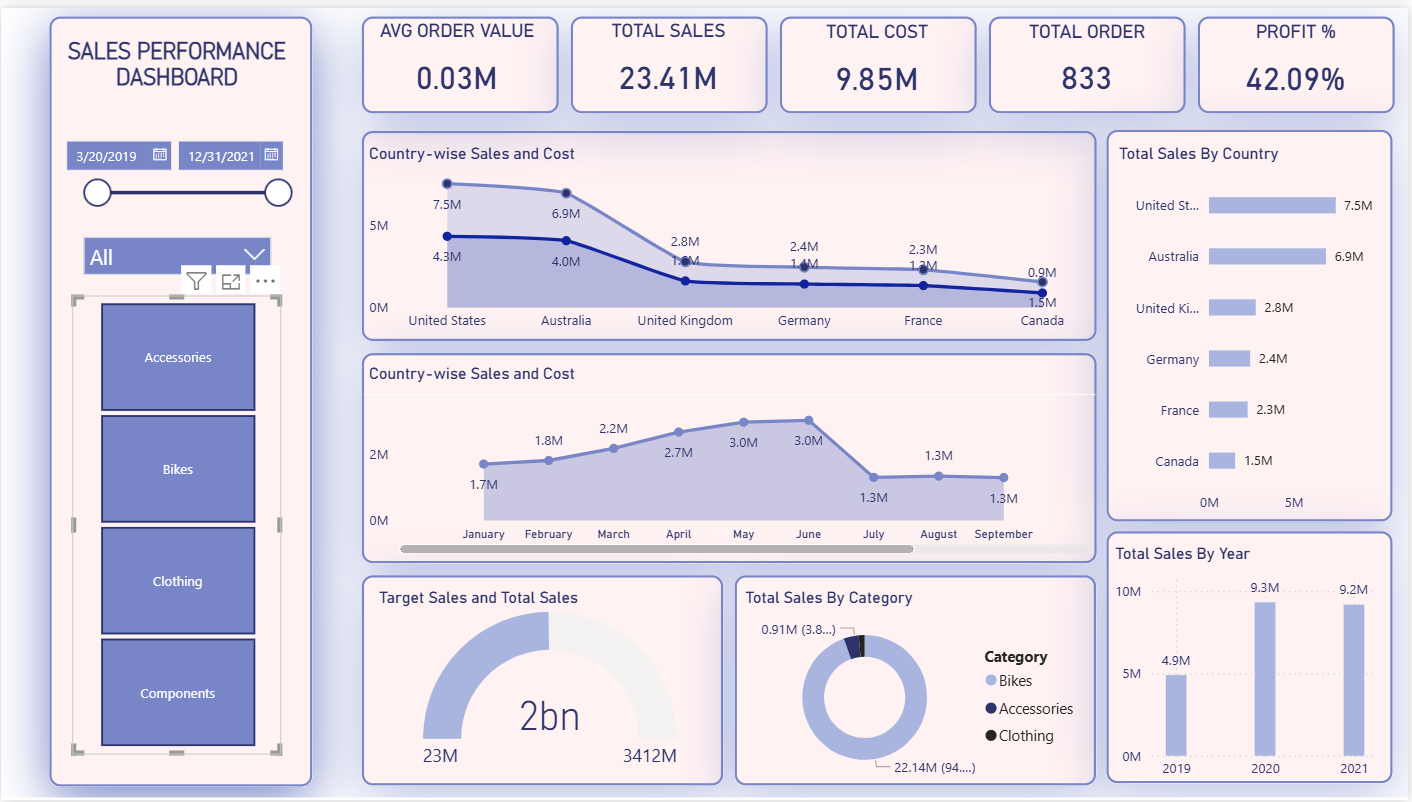

The dashboard page shown, as its layout file describes it:
{"tool":"powerbi","page":{"name":"Page 1","canvas":[1280,720],"ordinal":0},"visuals":[{"type":"areaChart","title":"Country-wise Sales and Cost","fields":{"Category":["Calendar.Date.Variation.Date Hierarchy.Month"],"Y":["Sales_19-21.msr_Total_Sales"]},"box":[330,324.3,665.7,177.1],"z":0},{"type":"clusteredColumnChart","title":"Total Sales By Year","fields":{"Category":["Calendar.Date.Variation.Date Hierarchy.Year","Calendar.Date.Variation.Date Hierarchy.Quarter","Calendar.Date.Variation.Date Hierarchy.Month","Calendar.Date.Variation.Date Hierarchy.Day"],"Y":["Sum(Sales_19-21.ProductTotalSales)"]},"box":[1007.5,487.5,248.8,222.5],"z":1000},{"type":"donutChart","title":"Total Sales By Category","fields":{"Category":["Product_Categories.CategoryName"],"Y":["Sales_19-21.msr_Total_Sales"]},"box":[671.2,527.5,317.5,182.5],"z":2000},{"type":"gauge","title":"Target Sales and Total Sales","fields":{"Y":["Sales_19-21.msr_Target_Sales"],"MinValue":["Sales_19-21.msr_Total_Sales"]},"box":[338.8,527.5,321.2,173.8],"z":3000},{"type":"card","title":"TOTAL SALES","fields":{"Values":["Sales_19-21.msr_Total_Sales"]},"box":[521.7,10,170,83.3],"z":4000},{"type":"card","title":"TOTAL COST","fields":{"Values":["Sales_19-21.msr_Profit"]},"box":[711,11,170,83],"z":5000},{"type":"card","title":"PROFIT %","fields":{"Values":["Sales_19-21.msr_Persent %"]},"box":[1092,11,170,83],"z":6000},{"type":"card","title":"TOTAL ORDER","fields":{"Values":["Sales_19-21.msr_Total_Order"]},"box":[902.2,11.1,170,82.2],"z":7000},{"type":"areaChart","title":"Country-wise Sales and Cost","fields":{"Category":["Territories.Country"],"Y":["Sales_19-21.msr_Total_Sales","Sales_19-21.msr_Total_Cost"]},"box":[330,124.3,665.7,178.6],"z":8000},{"type":"barChart","title":" Total Sales By Country","fields":{"Category":["Territories.Country"],"Y":["Sales_19-21.msr_Total_Sales"]},"box":[1011.4,124.3,250,344.3],"z":9000},{"type":"slicer","fields":{"Values":["Calendar.Date"]},"box":[46.7,110,226.7,86.7],"z":10000},{"type":"slicer","fields":{"Values":["Territories.Region"]},"box":[64.7,197.6,190.6,68.2],"z":11000},{"type":"slicer","fields":{"Values":["Product_Categories.CategoryName"]},"box":[65,261.7,190,416.7],"z":12000},{"type":"card","title":"AVG ORDER VALUE","fields":{"Values":["Sales_19-21.msr_AVG_Order_Value"]},"box":[330,10,170,83.3],"z":13000},{"type":"textbox","box":[46.7,21.7,226.7,63.3],"z":14000}]}

Visuals, with their boxes in screenshot pixels (x1, y1, x2, y2), scaled from the page's 1280x720 canvas onto the 1412x802 screenshot:
"Country-wise Sales and Cost" areaChart: 364:361:1098:559
"Total Sales By Year" clusteredColumnChart: 1111:543:1386:791
"Total Sales By Category" donutChart: 740:588:1091:791
"Target Sales and Total Sales" gauge: 374:588:728:781
"TOTAL SALES" card: 576:11:763:104
"TOTAL COST" card: 784:12:972:105
"PROFIT %" card: 1205:12:1392:105
"TOTAL ORDER" card: 995:12:1183:104
"Country-wise Sales and Cost" areaChart: 364:138:1098:337
" Total Sales By Country" barChart: 1116:138:1391:522
slicer - Calendar.Date: 52:123:302:219
slicer - Territories.Region: 71:220:282:296
slicer - Product_Categories.CategoryName: 72:292:281:756
"AVG ORDER VALUE" card: 364:11:552:104
textbox: 52:24:302:95
